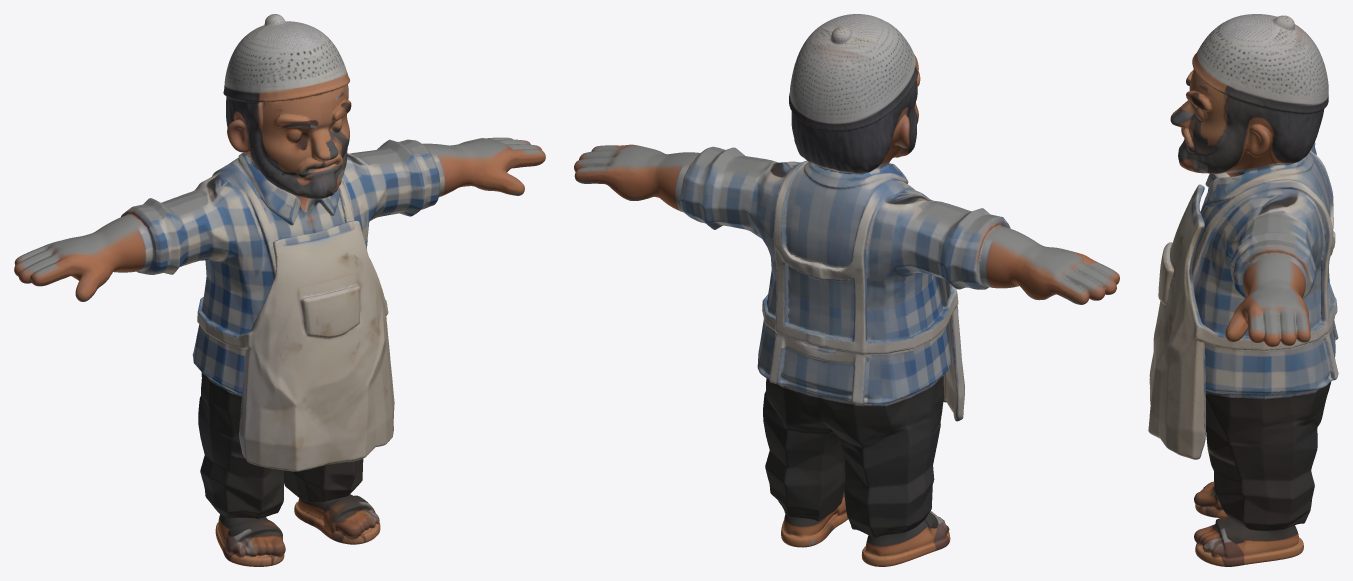
The model's file is farmer_clean.glb.
The picture shows the model from 3 angles, left to right: view 1: azimuth 30°, elevation 25°; view 2: azimuth 150°, elevation 25°; view 3: azimuth 270°, elevation 25°; orthographic projection. The views are drawn at different scales.
Visible parts, largest first — view 1: tripo_node_c3171768-6cbe-414a-a605-15839f699d01; view 2: tripo_node_c3171768-6cbe-414a-a605-15839f699d01; view 3: tripo_node_c3171768-6cbe-414a-a605-15839f699d01.
Boxes of the visible parts, x1,y1,x2,y2 form: tripo_node_c3171768-6cbe-414a-a605-15839f699d01: (14,14,545,566); tripo_node_c3171768-6cbe-414a-a605-15839f699d01: (574,14,1119,566); tripo_node_c3171768-6cbe-414a-a605-15839f699d01: (1148,14,1338,566).
Size of the model in its own units: 1.69 by 1.58 by 0.5282.
1 material, 1 textured.
